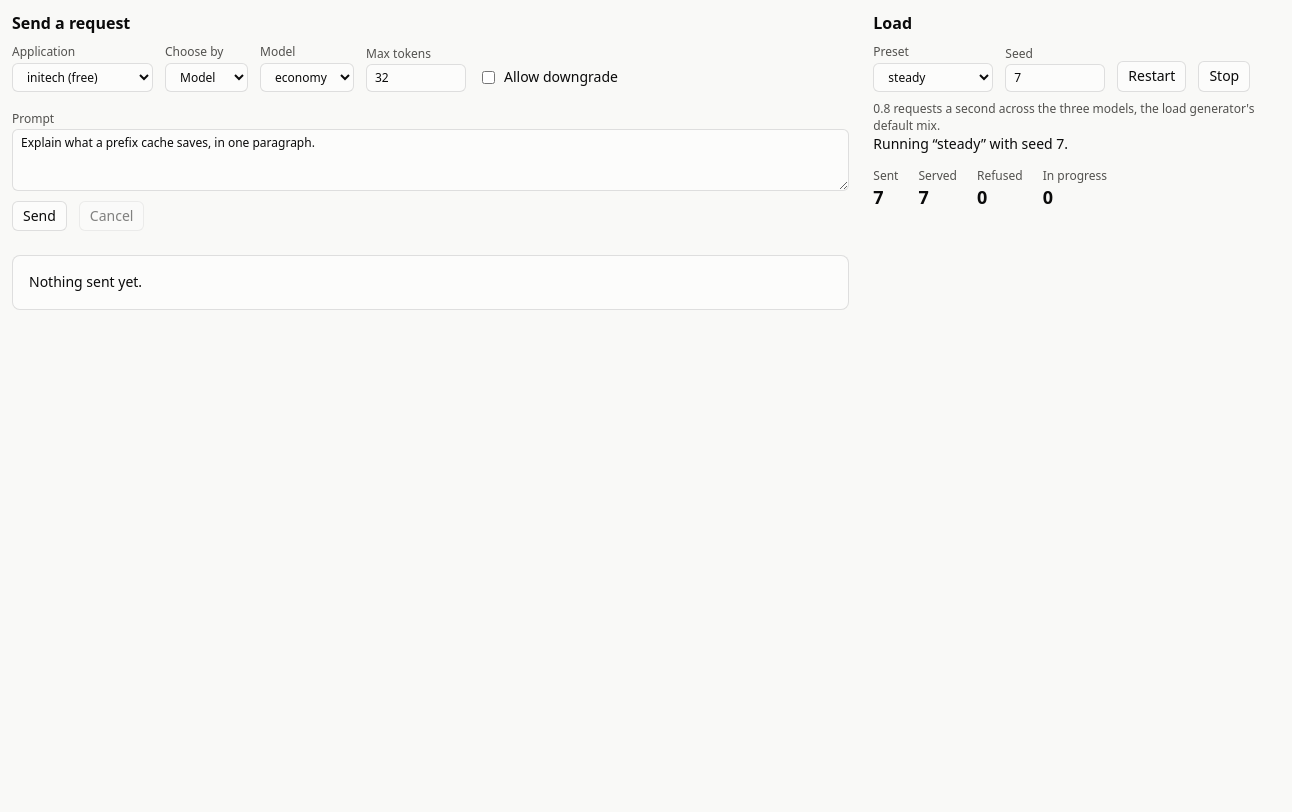
Scenario: request form › in simulated live mode, offers the applications and sends as the one chosen
Select "acme (enterprise)" in the dropdown labelled "Application" at [82, 77], box [12, 63, 153, 92]
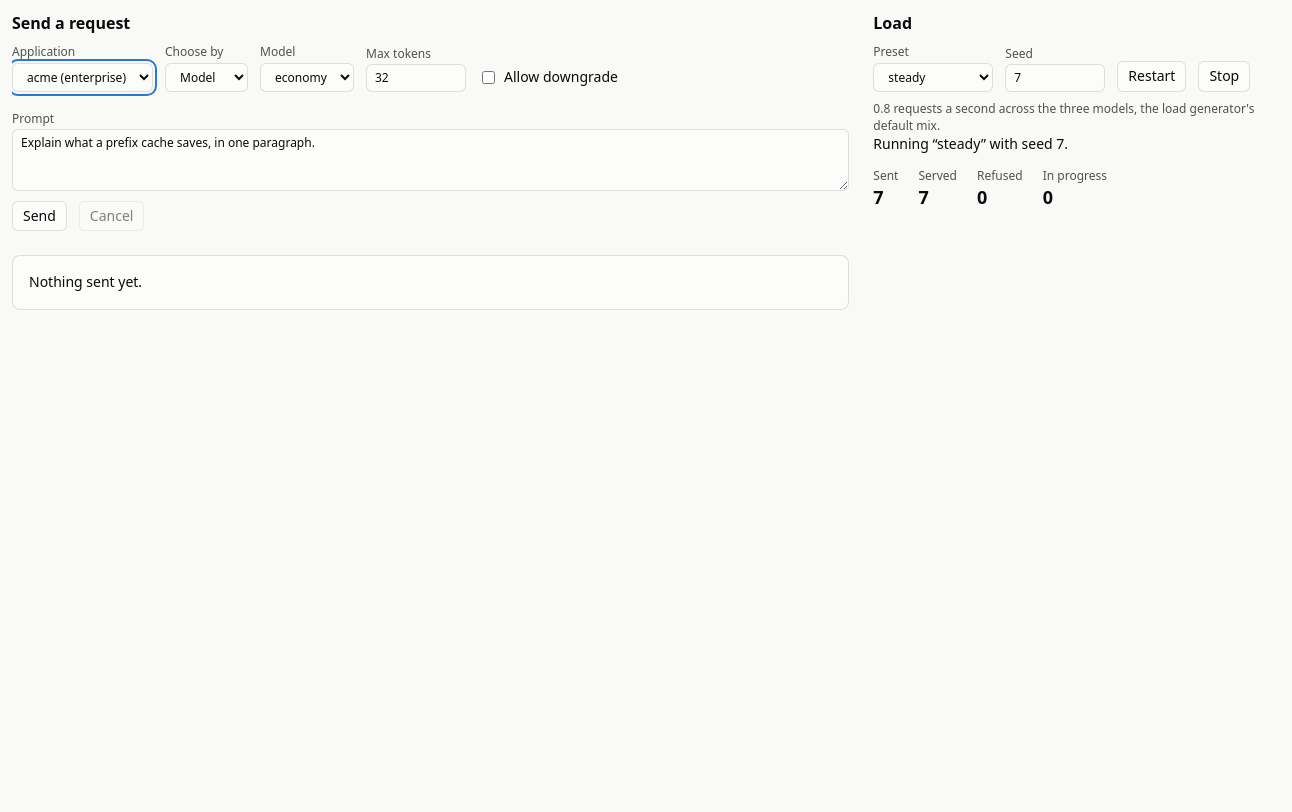
Select "premium" in the dropdown labelled "Model" at [307, 77], box [260, 63, 354, 92]
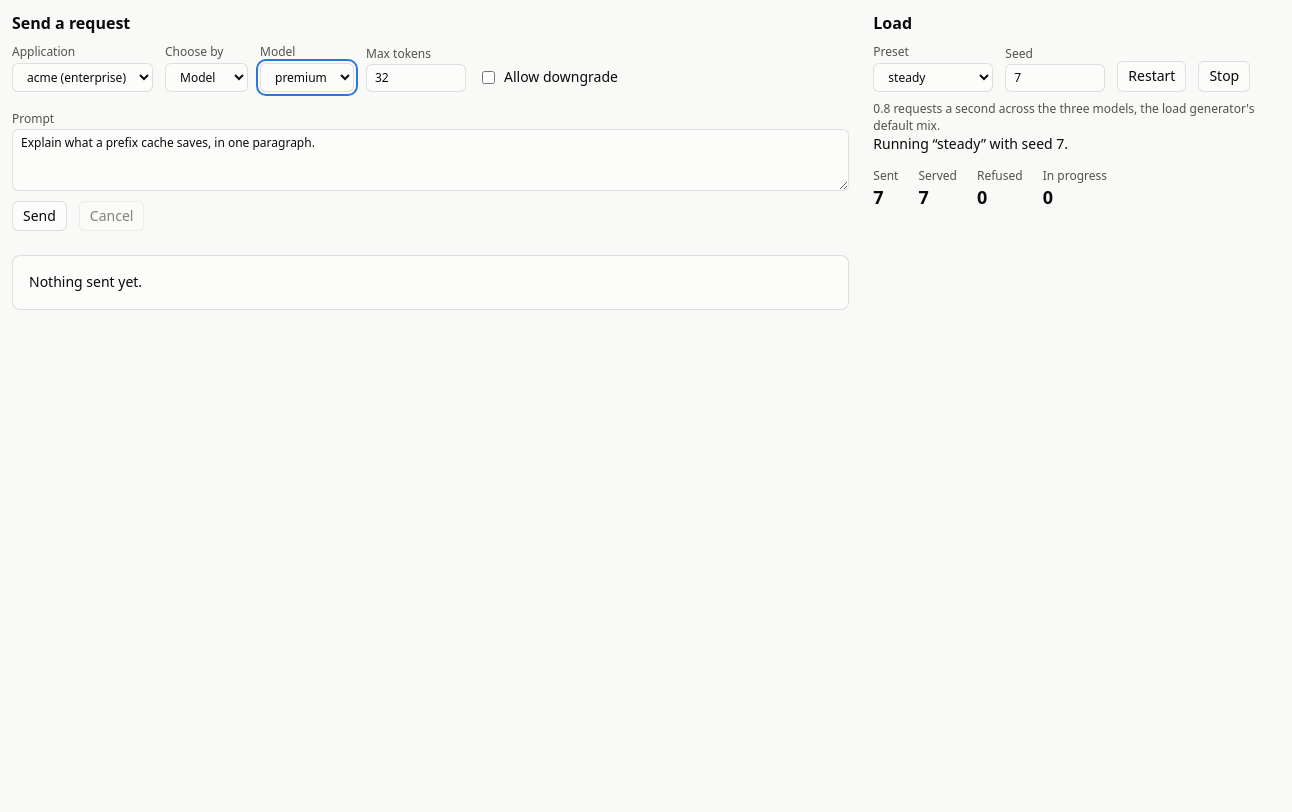
Replace the text in the number field labelled "Max tokens" with "4" at [416, 78], box [366, 64, 466, 92]
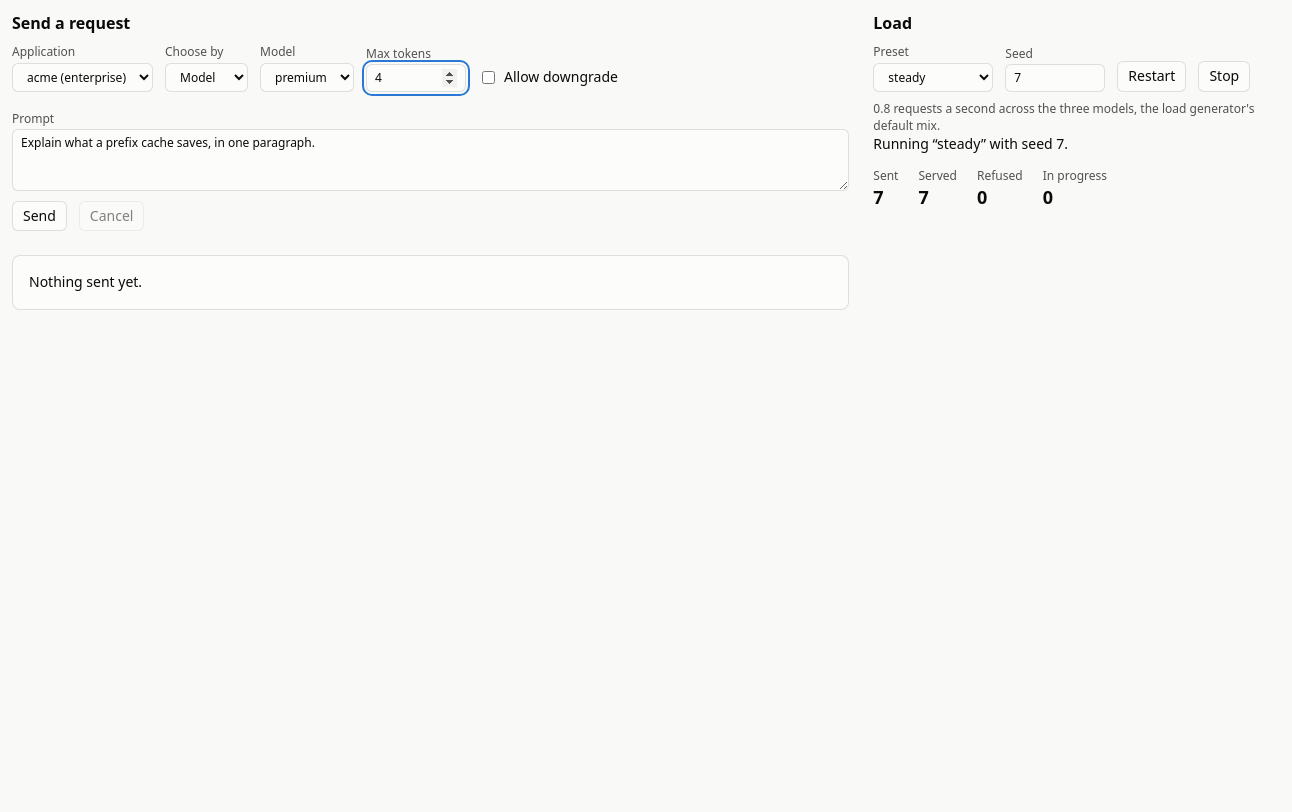
Click the checkbox labelled "Allow downgrade".
click(488, 77)  # box [482, 71, 495, 84]
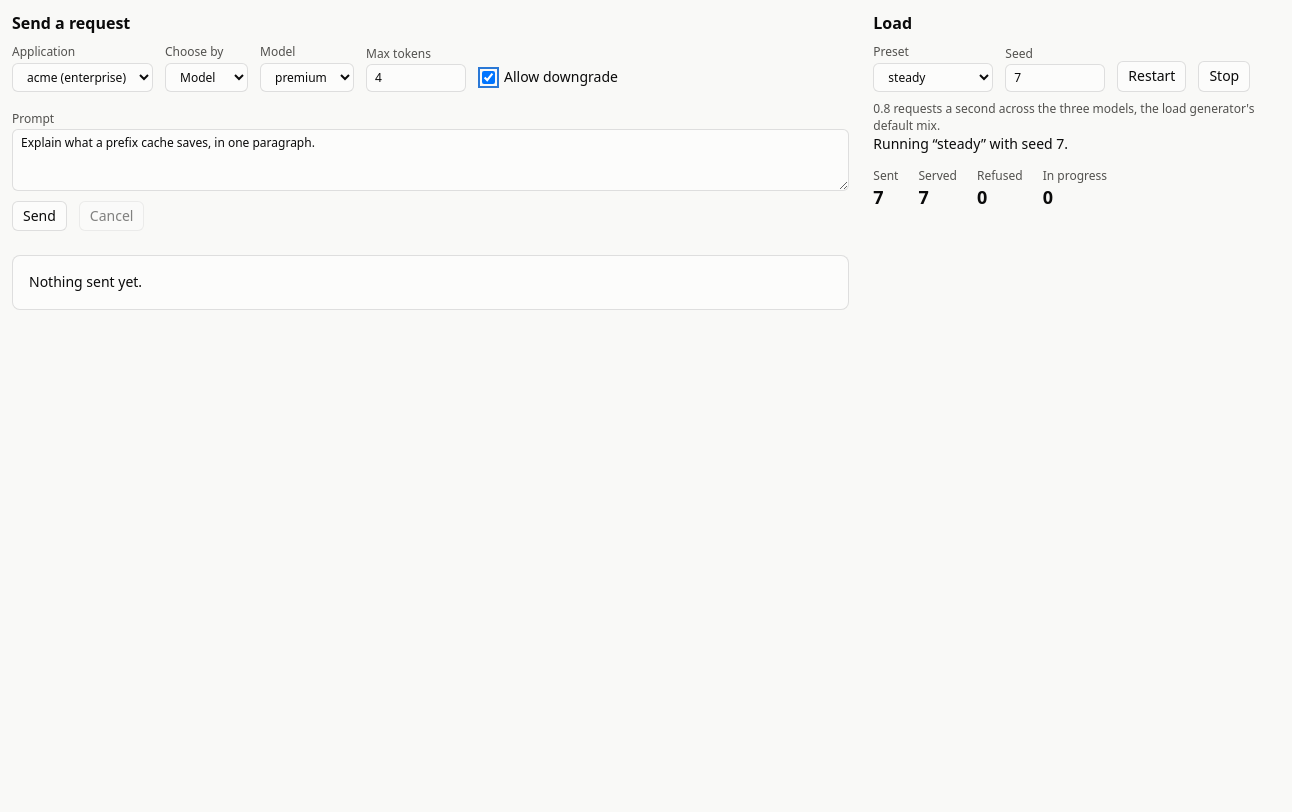
Replace the text in the text box labelled "Prompt" with "hello" at [431, 160], box [12, 129, 849, 191]
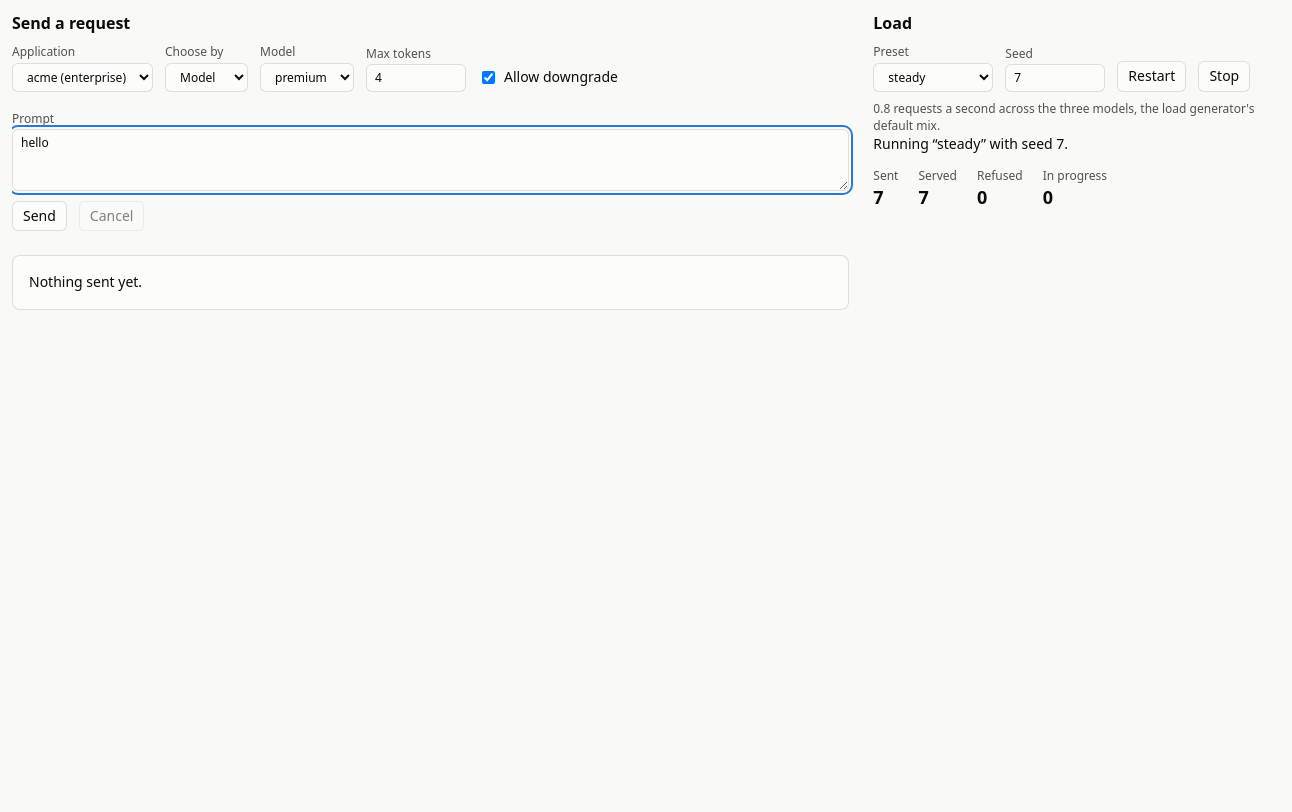
Click the button "Send".
click(39, 216)  # box [12, 201, 67, 231]
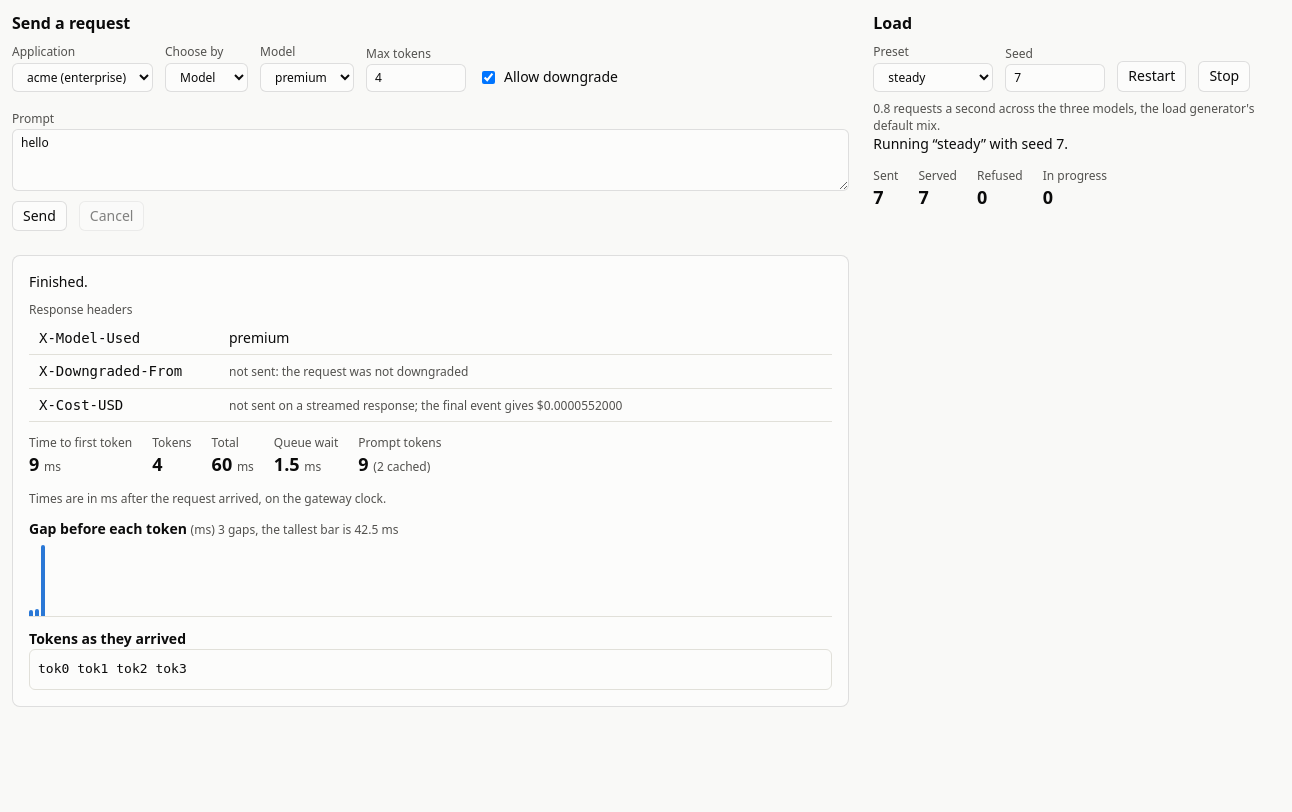
Expected: the text "Finished." is shown, [29, 272, 88, 291]
